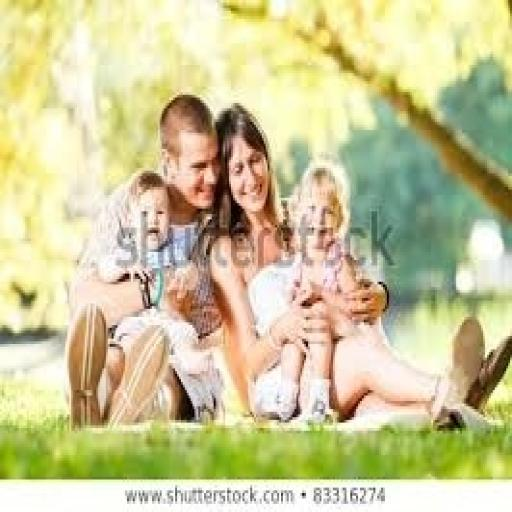sitting: (64, 92, 510, 434), (64, 92, 225, 428)
